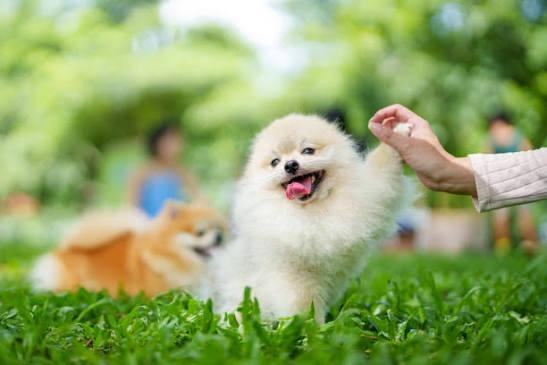adult_dog: (205, 110, 407, 329), (29, 201, 227, 300)
non-dog: (367, 103, 547, 212), (478, 110, 540, 255), (128, 119, 200, 218)
